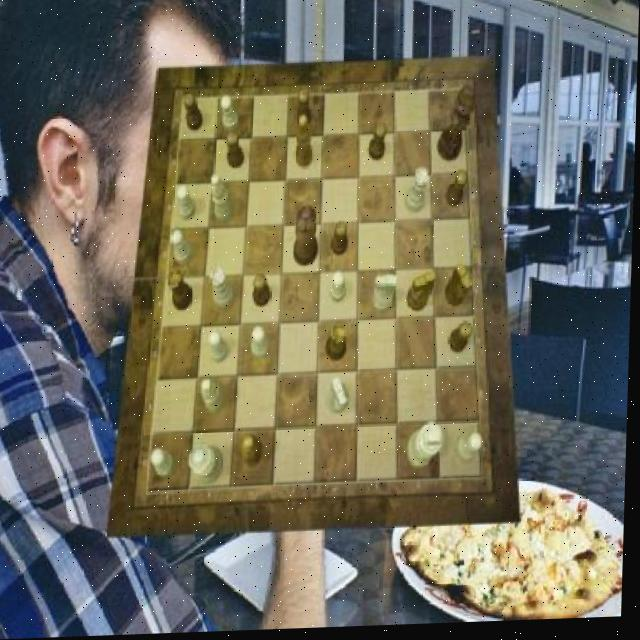bishop: (296, 117, 315, 171), (244, 435, 266, 470)
black-bishop: (439, 88, 478, 165)
black-king: (446, 266, 474, 309), (410, 275, 438, 315)
black-knight: (447, 174, 470, 211), (184, 96, 205, 134), (451, 326, 475, 358), (225, 133, 245, 171), (370, 126, 388, 164), (295, 93, 312, 132), (334, 222, 352, 257), (254, 277, 273, 310)
black-pawn: (295, 209, 321, 270)
black-queen: (169, 271, 195, 313), (327, 327, 349, 365)
black-rook: (212, 176, 237, 224), (204, 379, 229, 415)
white-bishop: (409, 425, 447, 472)
white-king: (376, 277, 401, 316), (328, 379, 352, 416)
white-knight: (172, 231, 196, 266), (458, 436, 486, 465), (221, 96, 241, 134), (153, 449, 178, 478), (178, 187, 198, 223), (211, 333, 232, 366), (253, 329, 273, 362), (331, 274, 349, 307)
white-pawn: (192, 444, 228, 486)
white-queen: (407, 171, 431, 217), (211, 270, 236, 311)
